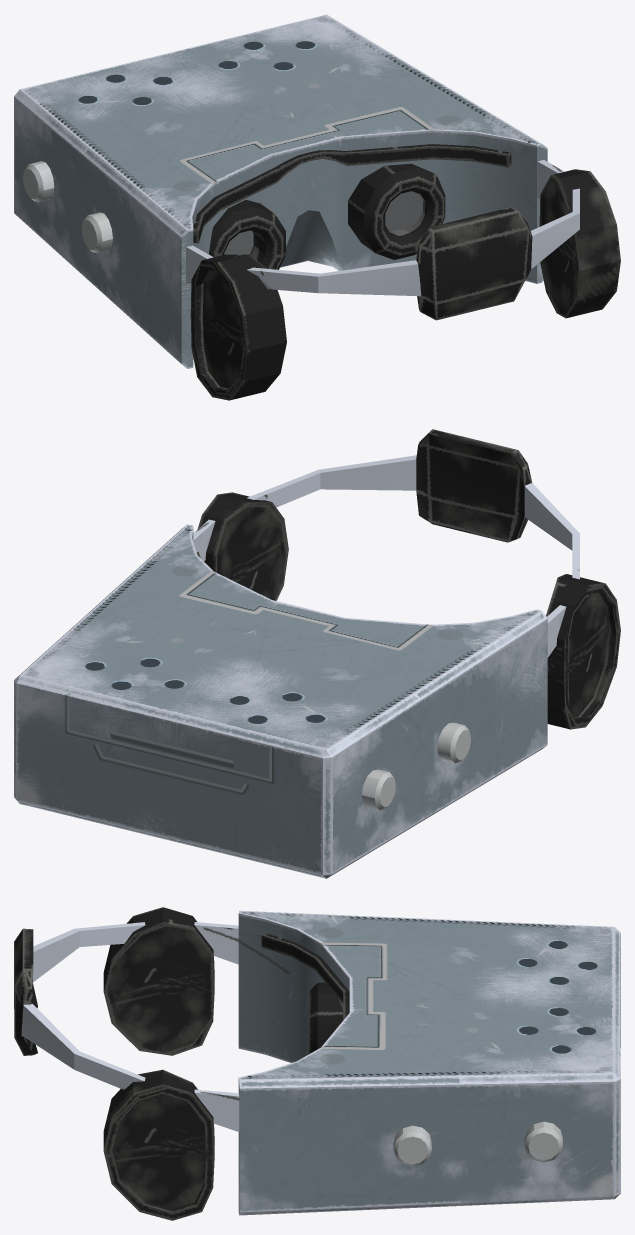
Rendered from TelesphereMask.gltf.
The picture shows the model from 3 angles, top to bottom: view 1: azimuth 30°, elevation 25°; view 2: azimuth 150°, elevation 25°; view 3: azimuth 270°, elevation 25°; orthographic projection. The views are drawn at different scales.
Visible parts, largest first — view 1: Telesphere; view 2: Telesphere; view 3: Telesphere.
Boxes of the visible parts, box(x1,y1,x2,y2) form: Telesphere: box(14, 14, 620, 400); Telesphere: box(14, 429, 620, 878); Telesphere: box(14, 907, 620, 1220).
Bounding box in the file's own units: 0.4841 × 0.2301 × 0.6941.
Materials: 1 (1 with a texture image).
